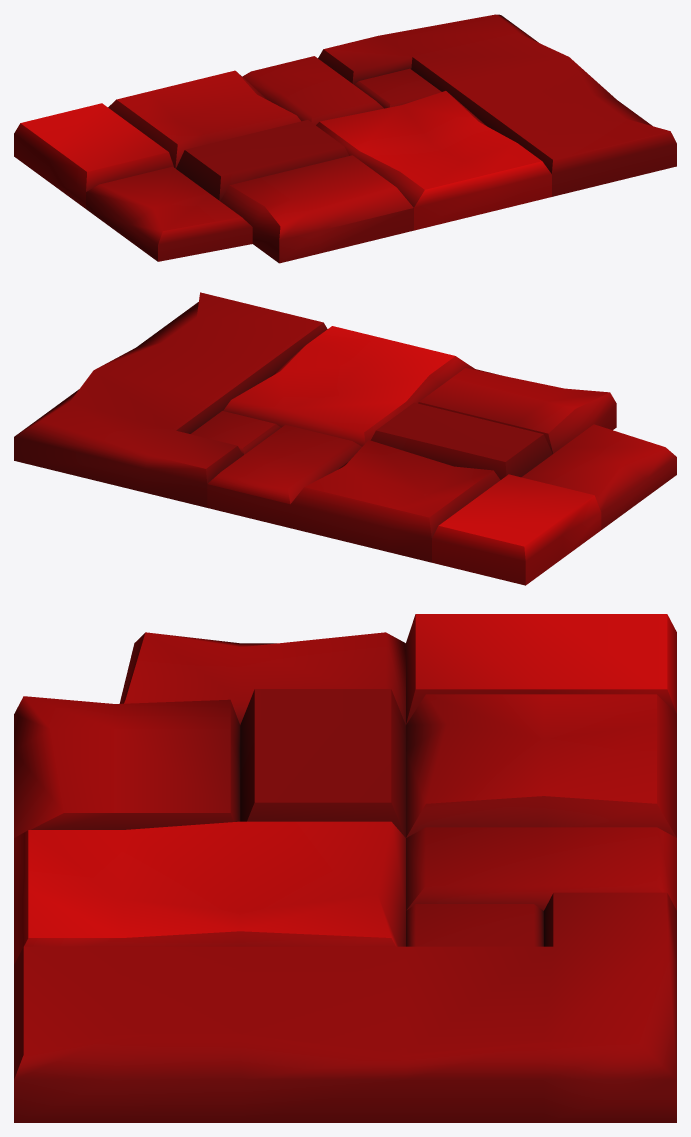
File: buildings-ruins-templeruins_v8.fbx
The picture shows the model from 3 angles, top to bottom: view 1: azimuth 30°, elevation 25°; view 2: azimuth 150°, elevation 25°; view 3: azimuth 270°, elevation 25°; orthographic projection. The views are drawn at different scales.
Parts seen in each view (by area): view 1: TempleRuins_v8; view 2: TempleRuins_v8; view 3: TempleRuins_v8.
Part boxes in pixels (left/top/right/bottom): TempleRuins_v8: left=14, top=14, right=676, bottom=263; TempleRuins_v8: left=14, top=292, right=676, bottom=585; TempleRuins_v8: left=14, top=614, right=676, bottom=1122.
Bounding box in the file's own units: 3.32 × 0.2532 × 2.07.
